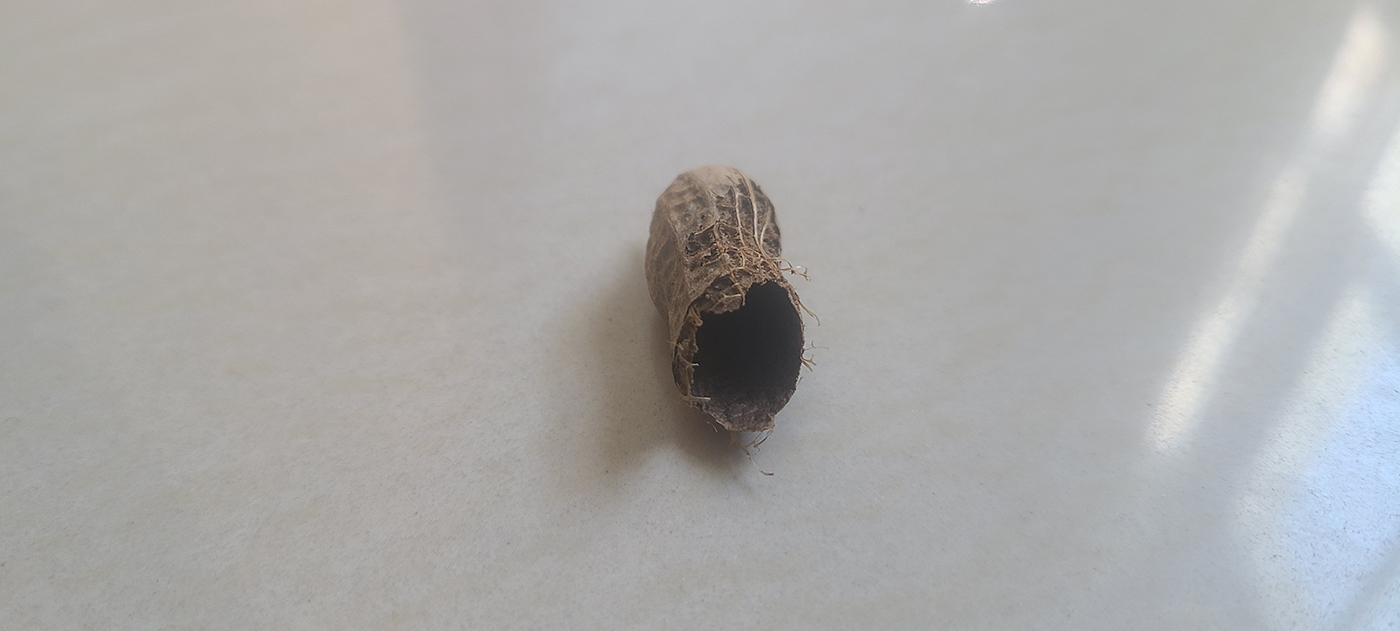l: (642, 162, 807, 435)
